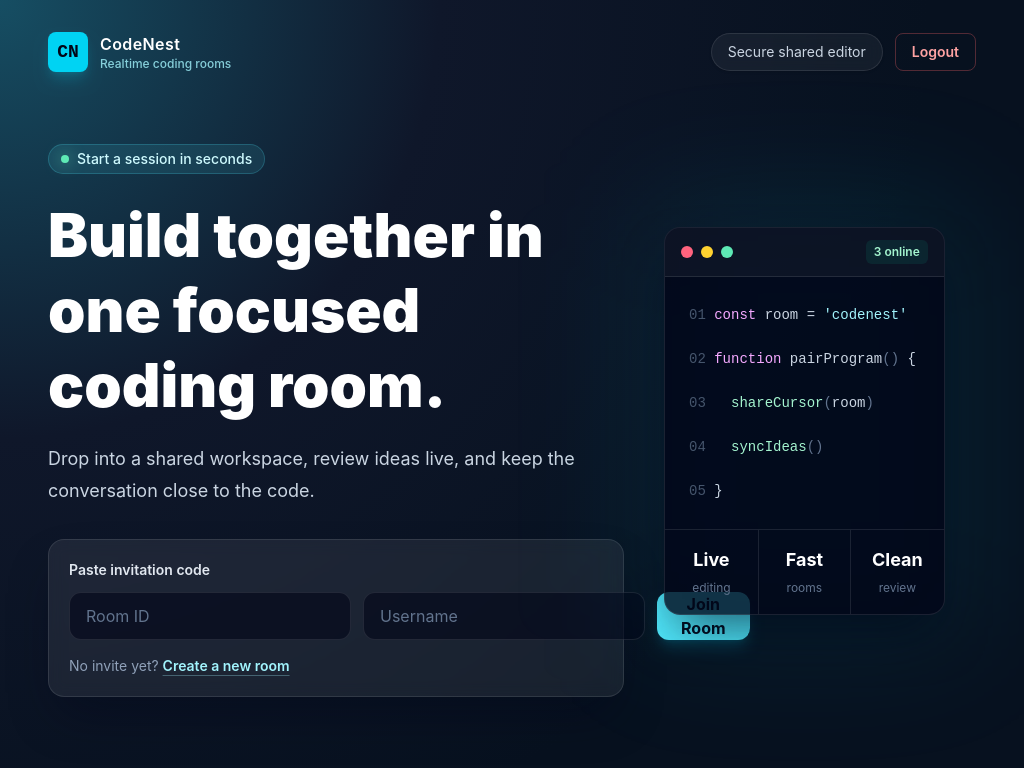
Test: Home component › logs out and clears session storage
Click the button "Logout" at (935, 52), box [895, 33, 976, 71]
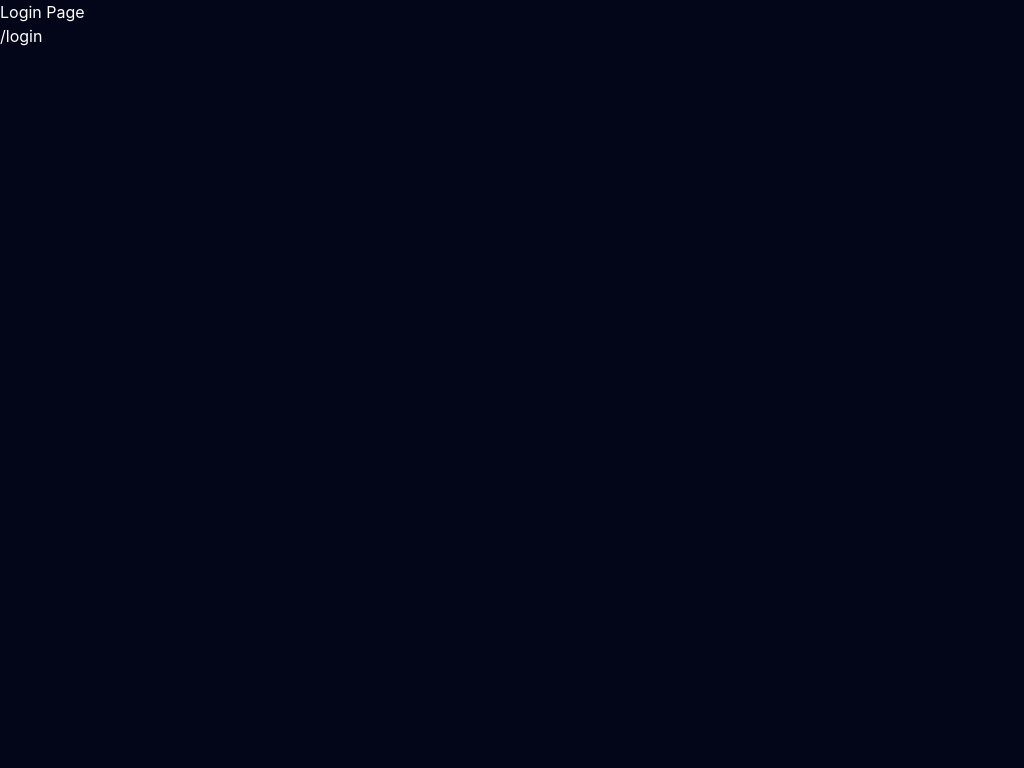
Expected: the text "Login Page" is shown, [0, 2, 85, 22]
Expected: the text with test id "current-path" reads "/login", [0, 26, 42, 46]
